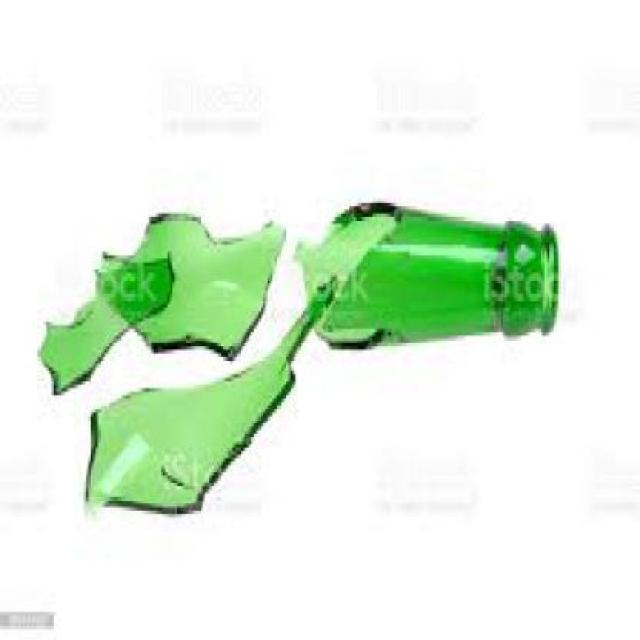kaca: (81, 272, 332, 514), (294, 203, 557, 346), (94, 209, 281, 357), (37, 252, 175, 392)
